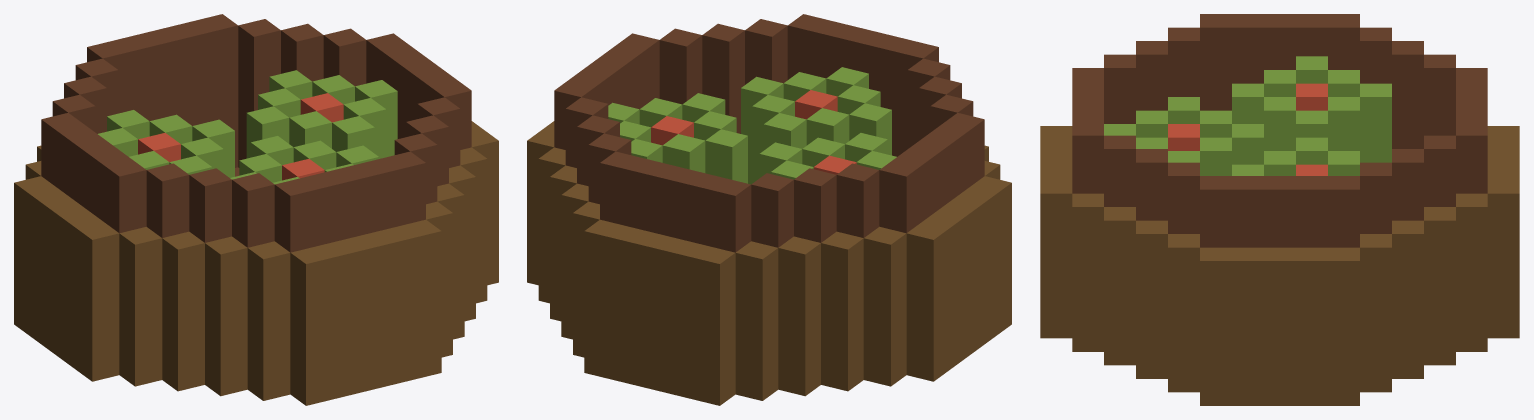
File: Kanomjeep_Pork_Complete.fbx
3 renders of one model, left to right at view 1: azimuth 30°, elevation 25°; view 2: azimuth 150°, elevation 25°; view 3: azimuth 270°, elevation 25°, orthographic. The views are drawn at different scales.
Visible parts, largest first — view 1: kanomjeep_pork_complete:kanomjeep_pork_complete; view 2: kanomjeep_pork_complete:kanomjeep_pork_complete; view 3: kanomjeep_pork_complete:kanomjeep_pork_complete.
Part boxes in pixels (x1,y1,x2,y2): kanomjeep_pork_complete:kanomjeep_pork_complete: [14, 14, 498, 405]; kanomjeep_pork_complete:kanomjeep_pork_complete: [527, 14, 1011, 405]; kanomjeep_pork_complete:kanomjeep_pork_complete: [1040, 14, 1519, 405].
Size of the model in its own units: 15 by 7 by 15.
